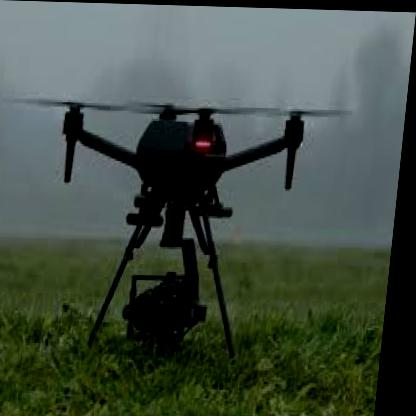UAS: (48, 102, 310, 360)
